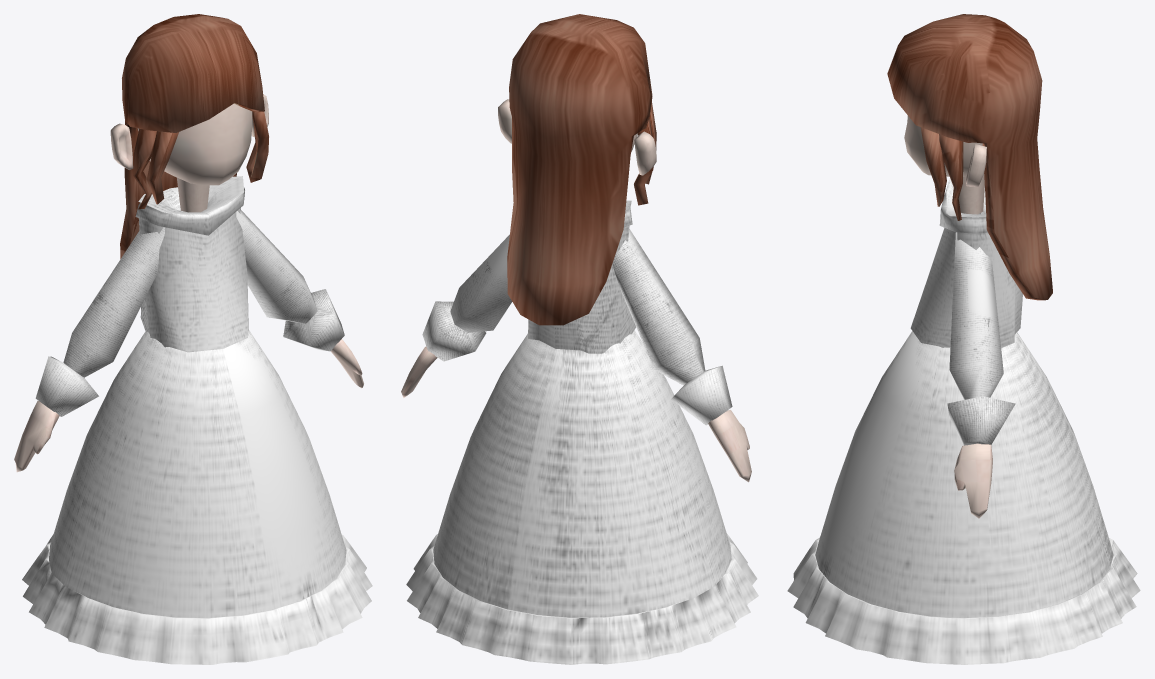
File: fantasma_nena_lowpoly_textura.fbx
The picture shows the model from 3 angles, left to right: view 1: azimuth 30°, elevation 25°; view 2: azimuth 150°, elevation 25°; view 3: azimuth 270°, elevation 25°; orthographic projection.
Parts seen in each view (by area): view 1: pollera, pelo, brazos, cuepo, cara, brazos.001, orejas, cuello, brazos.002; view 2: pollera, pelo, brazos, cuepo, brazos.001, orejas, brazos.002; view 3: pollera, pelo, brazos, cuepo, brazos.002, cara, cuello, orejas.
Boxes of the visible parts, box(x1,y1,x2,y2) form: pollera: box(22, 329, 372, 664); pelo: box(120, 14, 268, 258); brazos: box(35, 210, 344, 416); cuepo: box(135, 176, 248, 352); cara: box(137, 103, 252, 185); brazos.001: box(14, 401, 59, 472); orejas: box(110, 94, 268, 169); cuello: box(177, 177, 209, 212); brazos.002: box(331, 339, 363, 388); pollera: box(406, 330, 758, 664); pelo: box(507, 14, 656, 325); brazos: box(422, 229, 732, 425); cuepo: box(528, 200, 635, 353); brazos.001: box(708, 410, 751, 482); orejas: box(498, 99, 656, 175); brazos.002: box(401, 346, 437, 397); pollera: box(787, 331, 1140, 664); pelo: box(887, 14, 1052, 300); brazos: box(947, 232, 1015, 445); cuepo: box(910, 178, 1022, 347); brazos.002: box(954, 443, 992, 518); cara: box(904, 115, 982, 176); cuello: box(958, 174, 984, 214); orejas: box(966, 144, 986, 186).
Size of the model in its own units: 187 by 295 by 167.
Materials: 3 (3 with a texture image).
